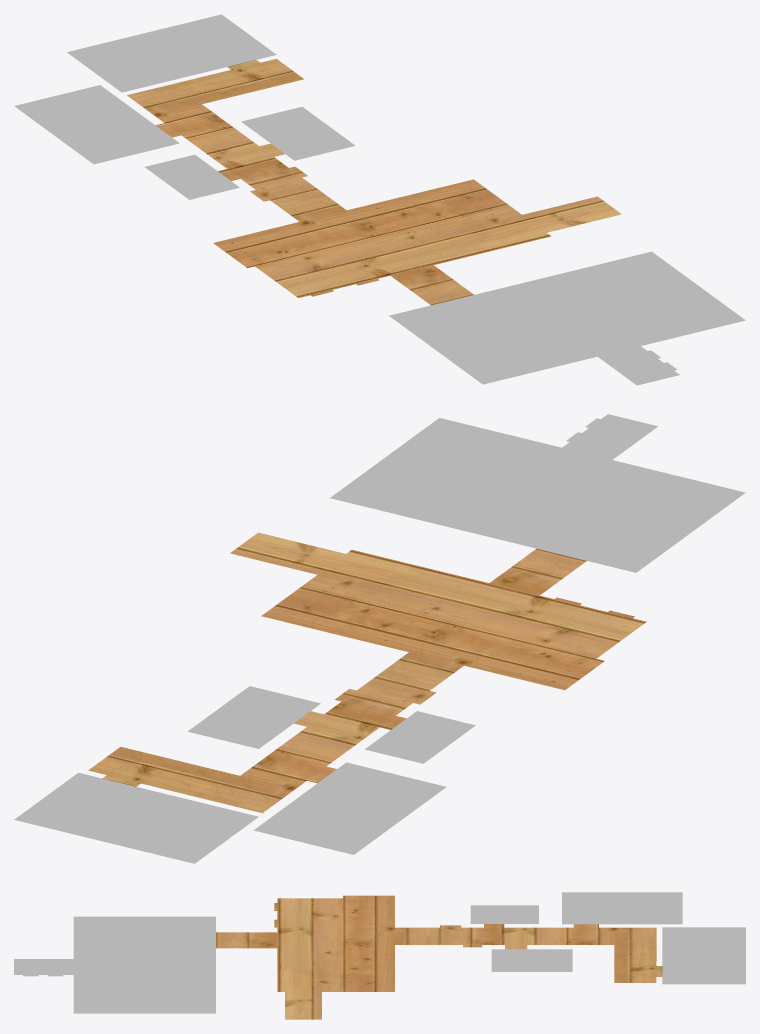
File: Floor_Full03.FBX
3 renders of one model, top to bottom at view 1: azimuth 30°, elevation 25°; view 2: azimuth 150°, elevation 25°; view 3: azimuth 270°, elevation 25°, orthographic. The views are drawn at different scales.
Parts seen in each view (by area): view 1: FloorWood001, FloorCarpet002, FloorCarpet005, FloorCarpet004, FloorCarpet003, FloorCarpet001; view 2: FloorWood001, FloorCarpet002, FloorCarpet005, FloorCarpet004, FloorCarpet003, FloorCarpet001; view 3: FloorWood001, FloorCarpet002, FloorCarpet005, FloorCarpet004, FloorCarpet003, FloorCarpet001.
Part boxes in pixels (x1,y1,x2,y2): FloorWood001: (127, 59, 621, 305); FloorCarpet002: (389, 251, 745, 385); FloorCarpet005: (67, 14, 276, 92); FloorCarpet004: (14, 85, 179, 164); FloorCarpet003: (241, 106, 355, 160); FloorCarpet001: (145, 154, 239, 199); FloorWood001: (88, 532, 646, 813); FloorCarpet002: (330, 414, 745, 572); FloorCarpet005: (14, 772, 258, 863); FloorCarpet004: (253, 762, 446, 854); FloorCarpet003: (188, 686, 320, 748); FloorCarpet001: (364, 711, 475, 763); FloorWood001: (216, 895, 662, 1019); FloorCarpet002: (14, 916, 215, 1013); FloorCarpet005: (662, 927, 745, 984); FloorCarpet004: (562, 892, 682, 924); FloorCarpet003: (491, 949, 572, 971); FloorCarpet001: (470, 905, 538, 923).
Bounding box in the file's own units: 3785 × 0.00103 × 9198.
